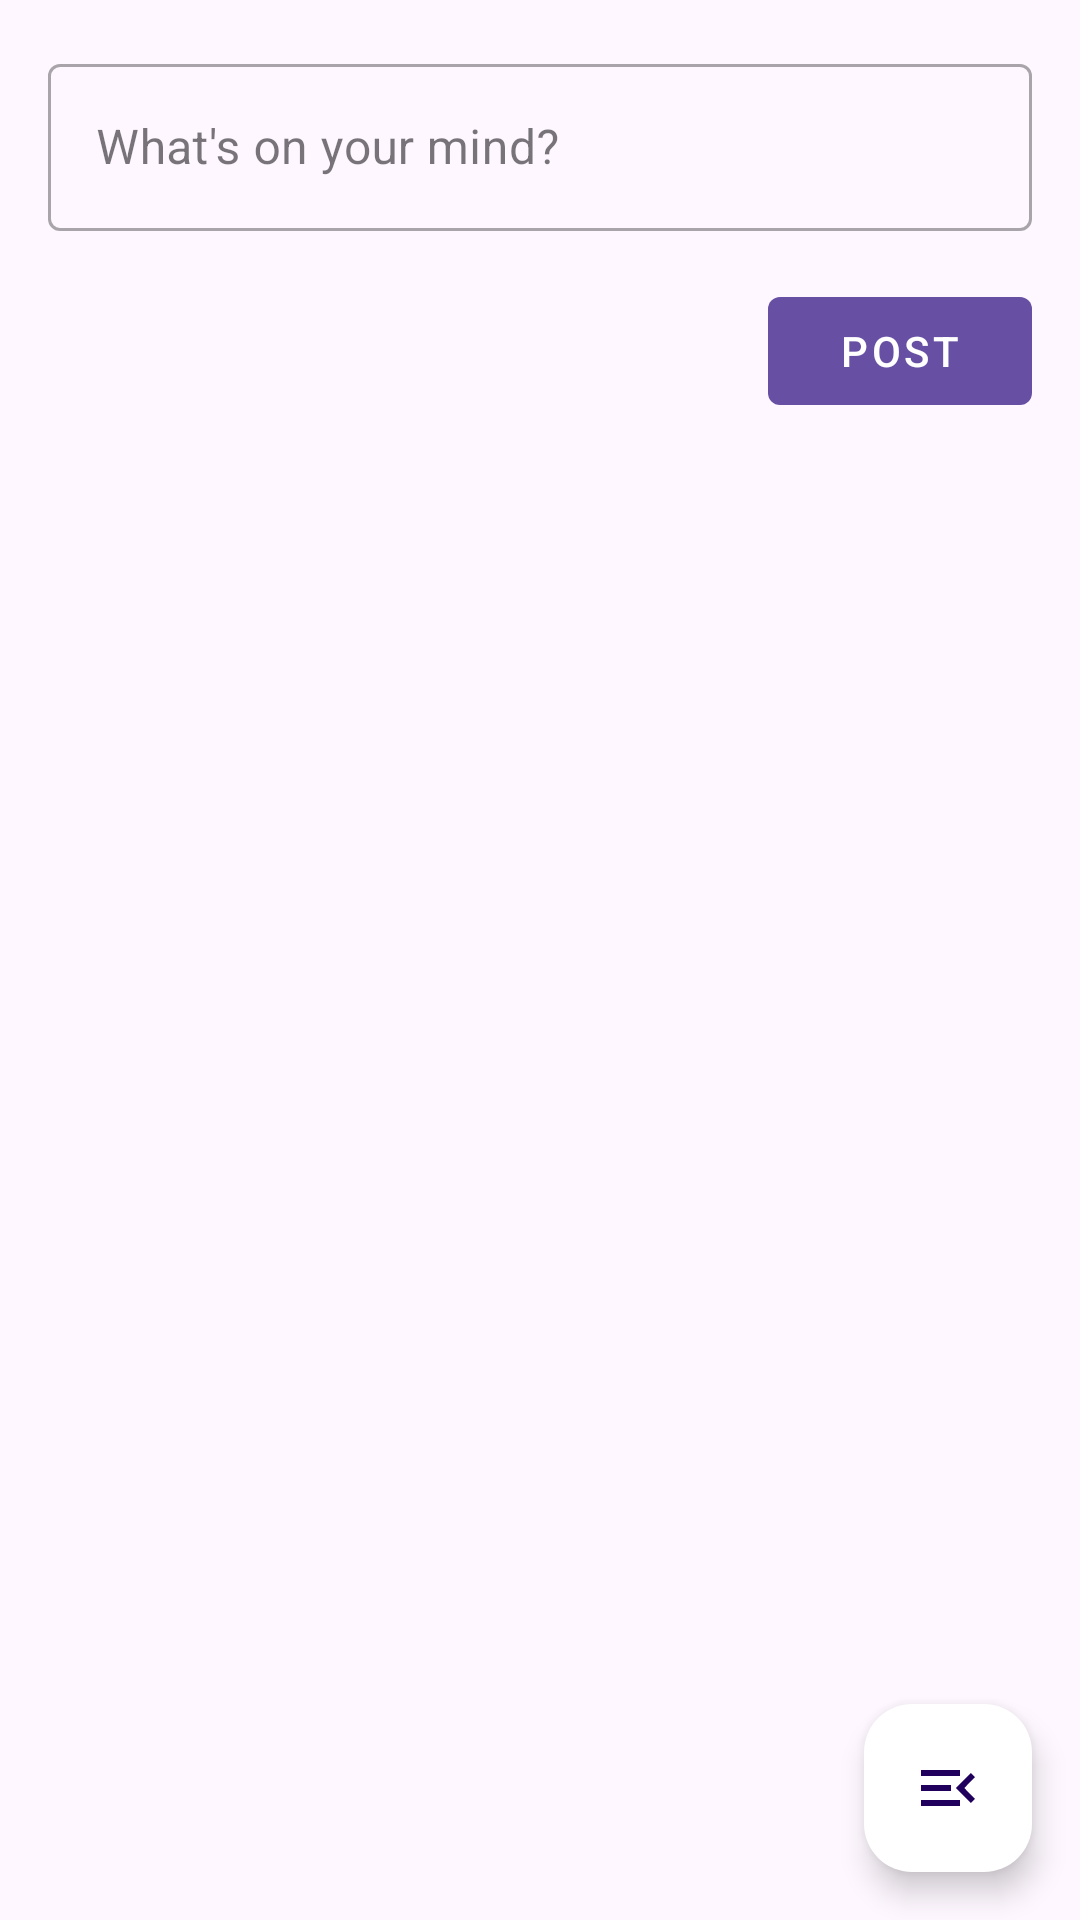

Icons on this 1080w x 1920h Android screen, each with its box as bbox(x1, y1, x2, y2):
open: bbox(864, 1704, 1032, 1872)
